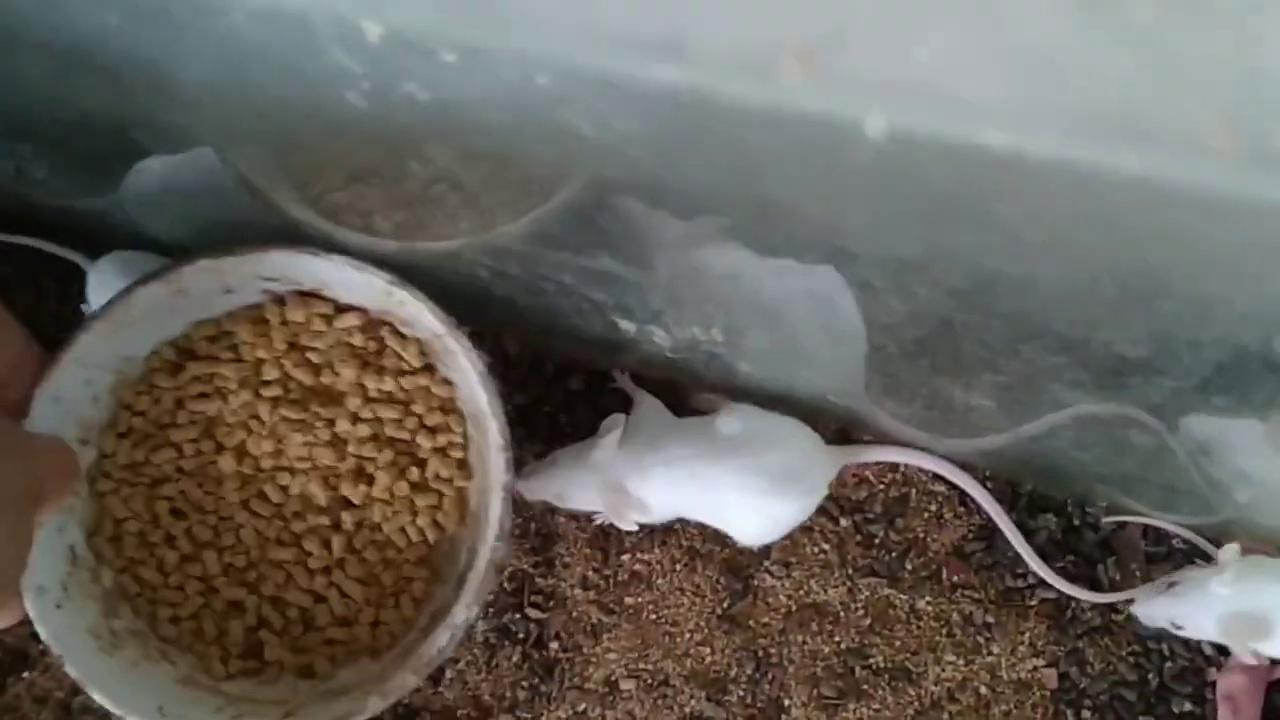rat: (512, 365, 1153, 601), (1137, 542, 1280, 662)
